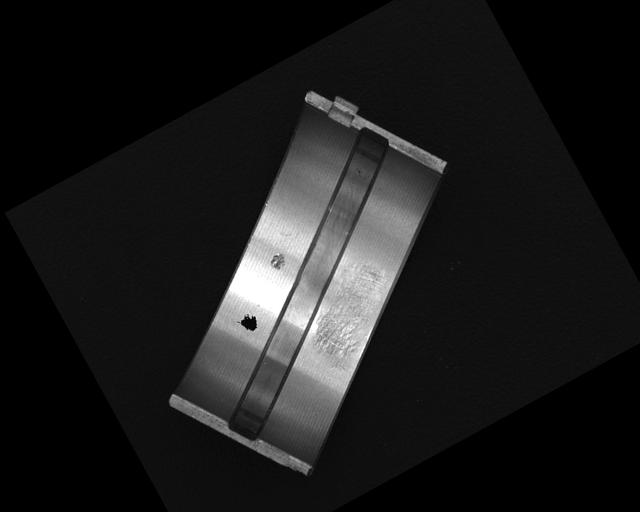blot: (234, 308, 261, 336)
bruise: (265, 249, 289, 273)
gap: (140, 122, 481, 444)
scratch: (288, 252, 406, 366)
